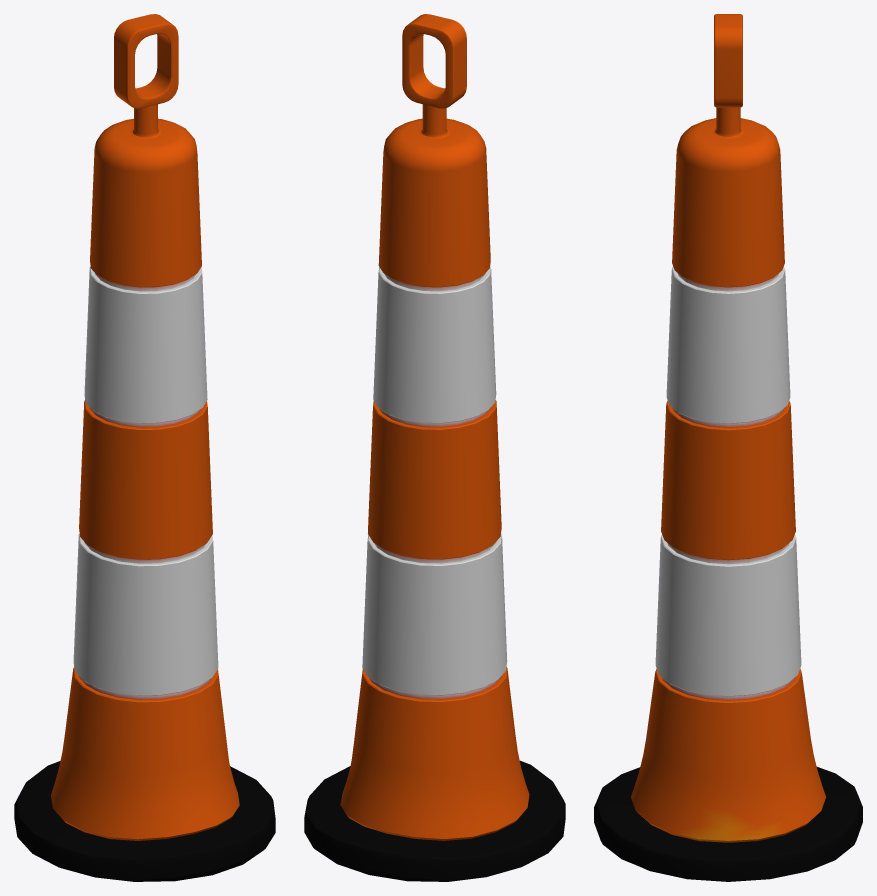
The model's file is barrierThinSingle.fbx.
3 renders of one model, left to right at view 1: azimuth 30°, elevation 25°; view 2: azimuth 150°, elevation 25°; view 3: azimuth 270°, elevation 25°, orthographic.
Visible parts, largest first — view 1: barrierThin; view 2: barrierThin; view 3: barrierThin.
Part boxes in pixels (x1,y1,x2,y2): barrierThin: (14,14,275,881); barrierThin: (304,14,565,881); barrierThin: (594,14,862,881).
Size of the model in its own units: 0.2281 by 0.7769 by 0.2346.
